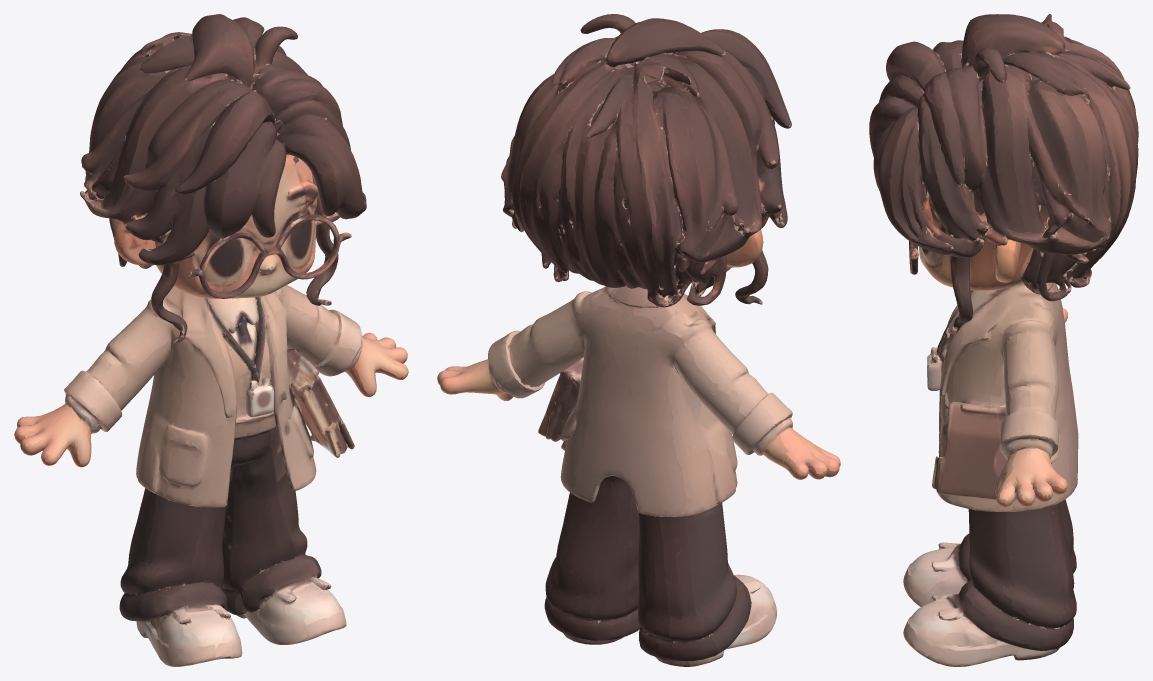
File: Teacher.glb
The picture shows the model from 3 angles, left to right: view 1: azimuth 30°, elevation 25°; view 2: azimuth 150°, elevation 25°; view 3: azimuth 270°, elevation 25°; orthographic projection. The views are drawn at different scales.
Parts seen in each view (by area): view 1: geometry_0; view 2: geometry_0; view 3: geometry_0.
Boxes of the visible parts, x1,y1,x2,y2 form: geometry_0: [14, 14, 408, 666]; geometry_0: [437, 14, 840, 666]; geometry_0: [869, 14, 1138, 666].
Size of the model in its own units: 0.1002 by 0.15 by 0.0601.
1 material, 1 textured.
